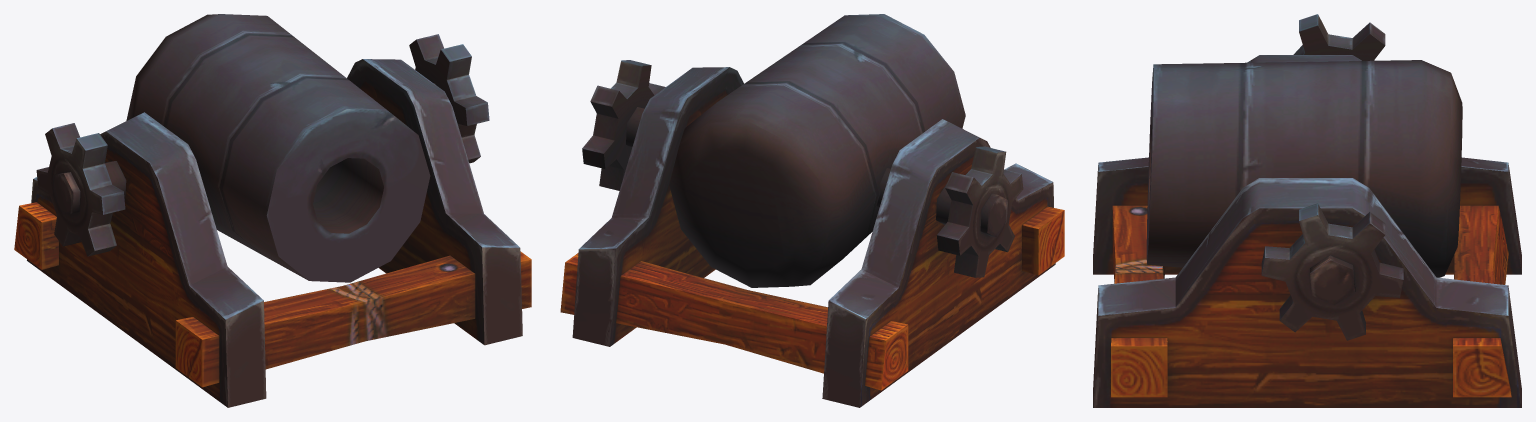
The model's file is Mortar_1.fbx.
3 views of the same model, side by side, from view 1: azimuth 30°, elevation 25°; view 2: azimuth 150°, elevation 25°; view 3: azimuth 270°, elevation 25° (orthographic). The views are drawn at different scales.
Parts seen in each view (by area): view 1: Base, Turret; view 2: Turret, Base; view 3: Base, Turret.
Boxes of the visible parts, bbox=[...] form: Base: bbox=[14, 59, 531, 407]; Turret: bbox=[36, 14, 489, 282]; Turret: bbox=[582, 14, 1023, 287]; Base: bbox=[560, 67, 1064, 407]; Base: bbox=[1093, 55, 1521, 407]; Turret: bbox=[1146, 14, 1462, 340].
Size of the model in its own units: 283 by 164 by 245.
